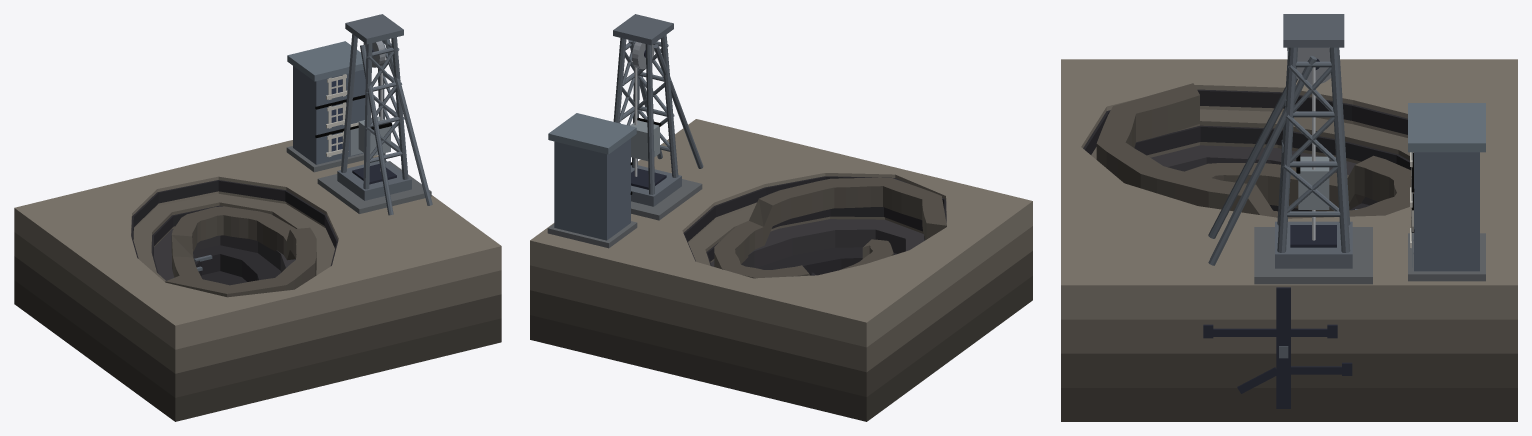
File: mine_flush_lvl2.glb
3 renders of one model, left to right at view 1: azimuth 30°, elevation 25°; view 2: azimuth 150°, elevation 25°; view 3: azimuth 270°, elevation 25°, orthographic. The views are drawn at different scales.
Parts seen in each view (by area): view 1: mine_flush; view 2: mine_flush; view 3: mine_flush.
Boxes of the visible parts, <box> form: mine_flush: <box>14,14,501,421</box>; mine_flush: <box>530,14,1032,421</box>; mine_flush: <box>1061,14,1517,421</box>.
Size of the model in its own units: 1 by 0.7562 by 0.8493.
